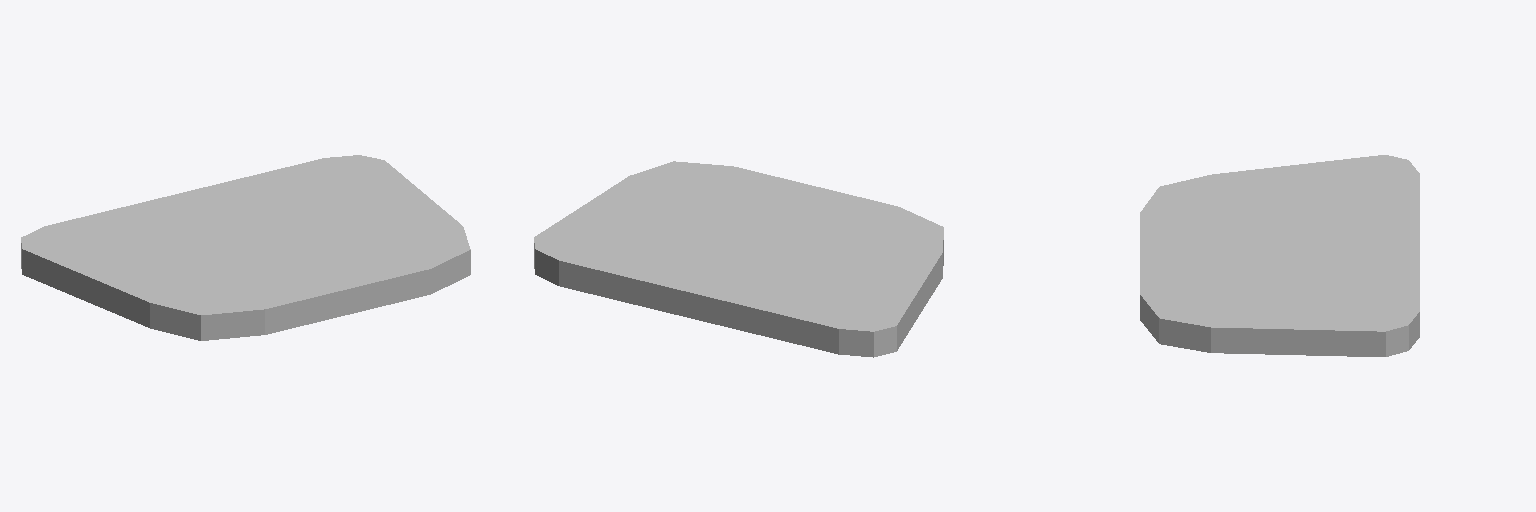
File: HamPizza.obj
The picture shows the model from 3 angles: view 1: azimuth 30°, elevation 25°; view 2: azimuth 150°, elevation 25°; view 3: azimuth 270°, elevation 25°; orthographic projection.
Visible parts, largest first — view 1: HamPizza; view 2: HamPizza; view 3: HamPizza.
Boxes of the visible parts, x1=… form: HamPizza: x1=21, y1=155, x2=470, y2=340; HamPizza: x1=534, y1=161, x2=943, y2=357; HamPizza: x1=1140, y1=155, x2=1419, y2=356.
Size of the model in its own units: 0.0851 by 0.0058 by 0.057.